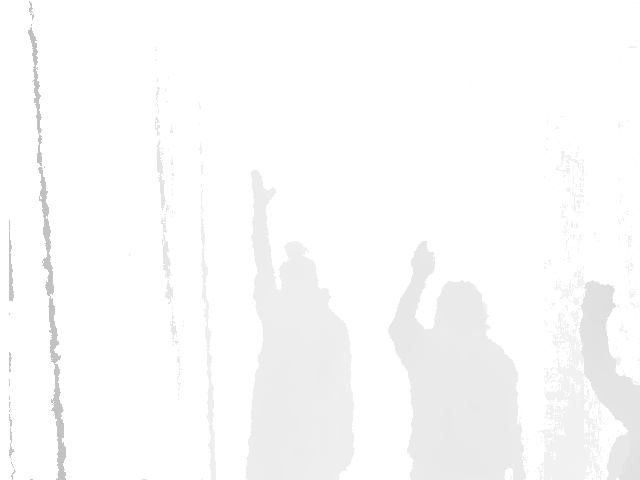hand: (580, 281, 617, 324), (405, 238, 437, 284), (246, 166, 276, 204)
head: (279, 240, 329, 313), (435, 278, 490, 342)
person: (241, 165, 356, 480), (388, 237, 531, 480), (579, 281, 640, 480)
